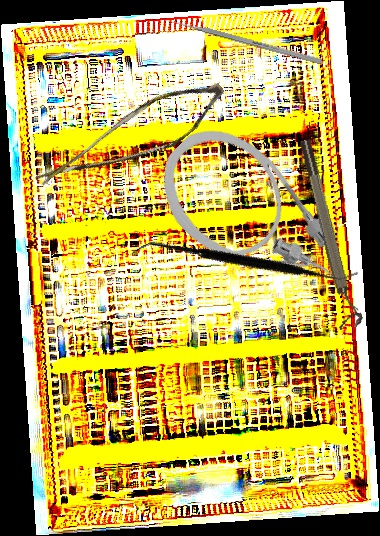Cannula: (139, 106, 364, 332)
Fixation Ring: (296, 136, 365, 331)
Micro Scissor: (33, 52, 233, 227)
Pusher: (159, 15, 323, 65)
Spatula Surgical: (132, 172, 359, 354)
